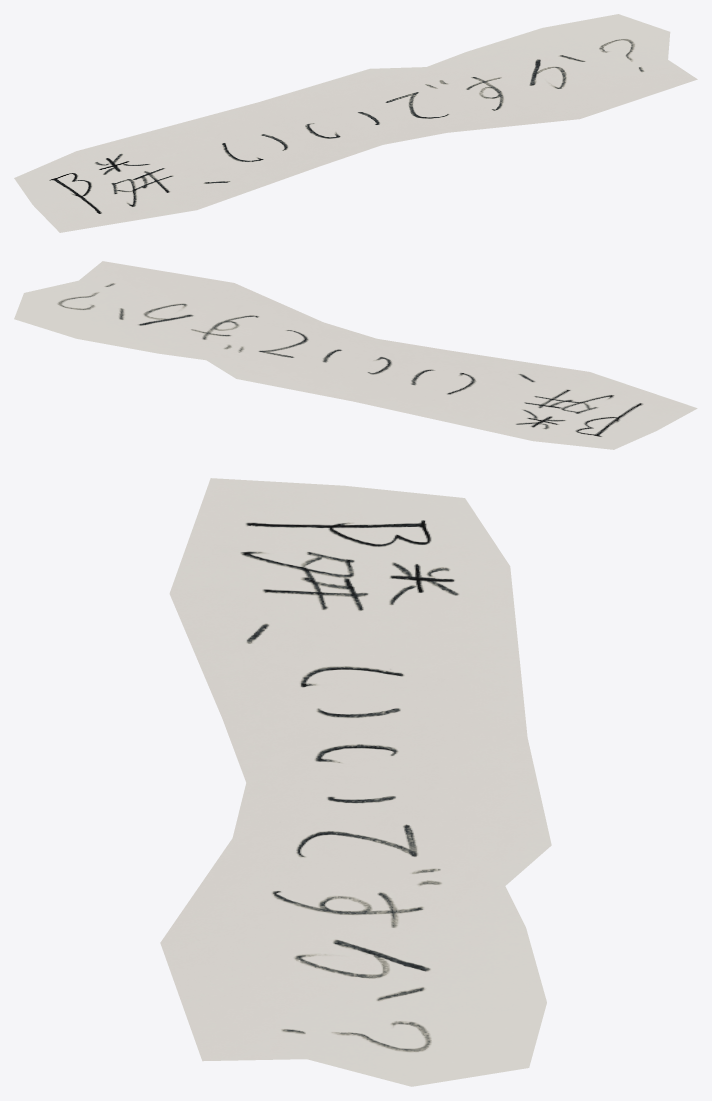
File: serihu.fbx
3 renders of one model, top to bottom at view 1: azimuth 30°, elevation 25°; view 2: azimuth 150°, elevation 25°; view 3: azimuth 270°, elevation 25°, orthographic. The views are drawn at different scales.
Visible parts, largest first — view 1: Plane; view 2: Plane; view 3: Plane.
Boxes of the visible parts, x1=… form: Plane: x1=14, y1=14, x2=697, y2=232; Plane: x1=14, y1=261, x2=697, y2=449; Plane: x1=160, y1=478, x2=551, y2=1086.
Bounding box in the file's own units: 438 × 1.94e-05 × 119.
Materials: 1 (1 with a texture image).
